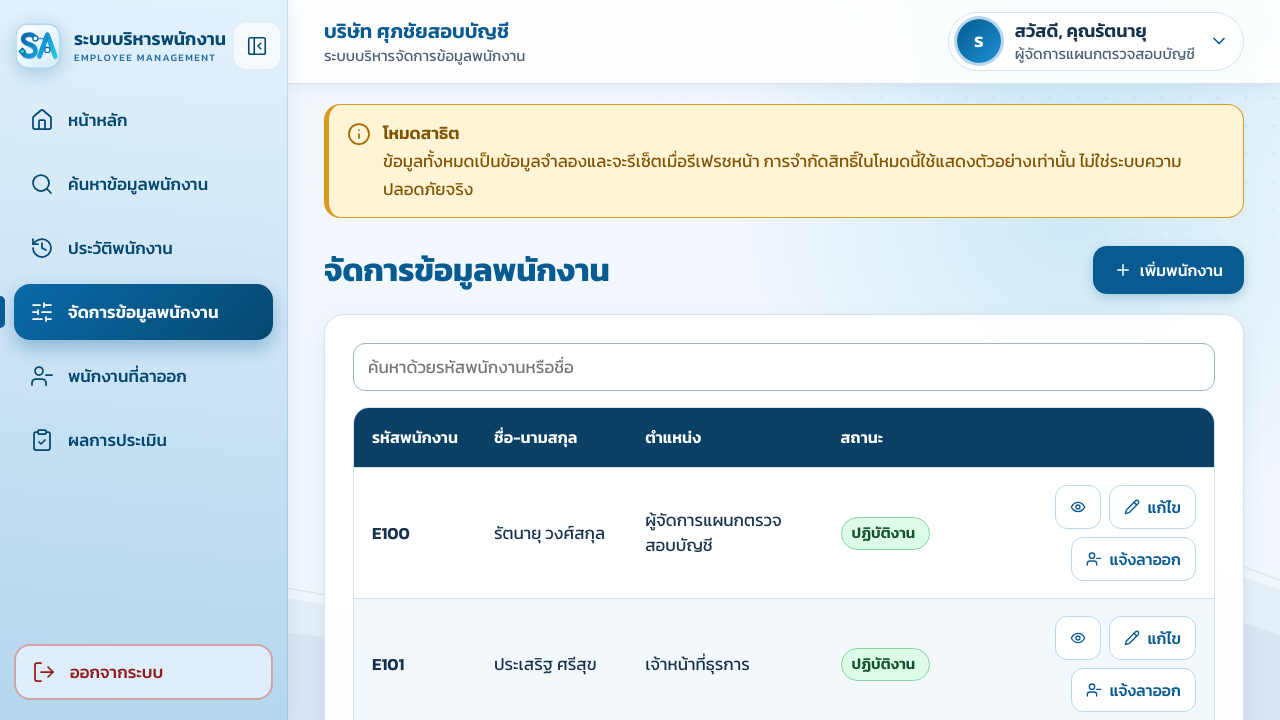
Test: employee edit modal › shows validation errors and moves focus to the first invalid field
This screenshot has width=1280, height=720.
Click the button "แก้ไข" in the row of "E100": {"x": 1152, "y": 507} x1=1109 y1=485 x2=1196 y2=529
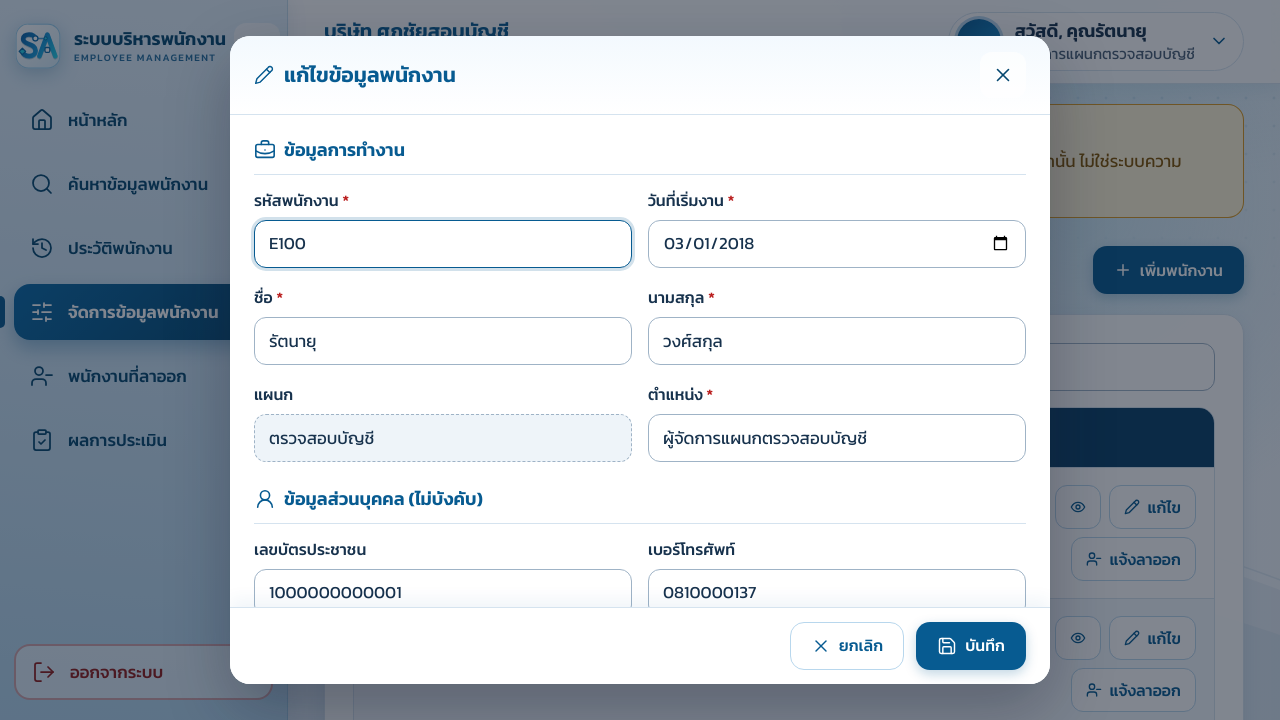
Clear the field labelled "ชื่อ *": {"x": 443, "y": 341} x1=254 y1=317 x2=632 y2=365
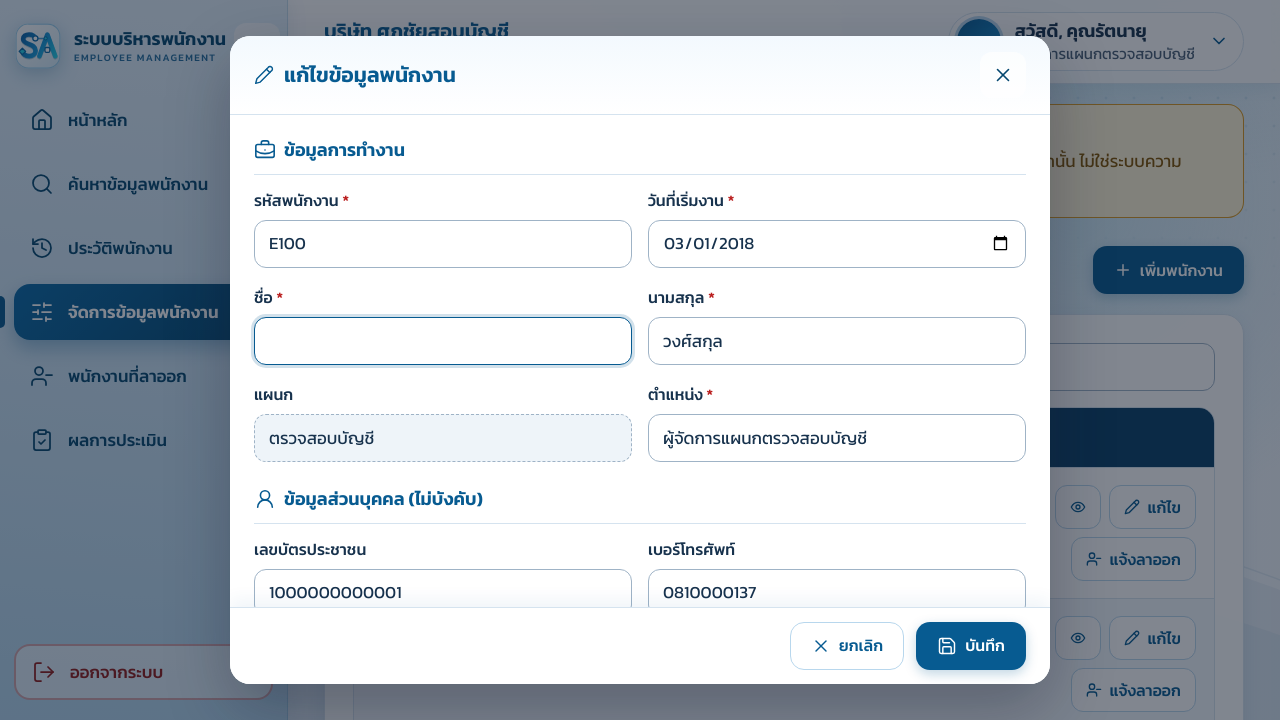
Click the button "บันทึก": {"x": 971, "y": 646} x1=916 y1=622 x2=1026 y2=670
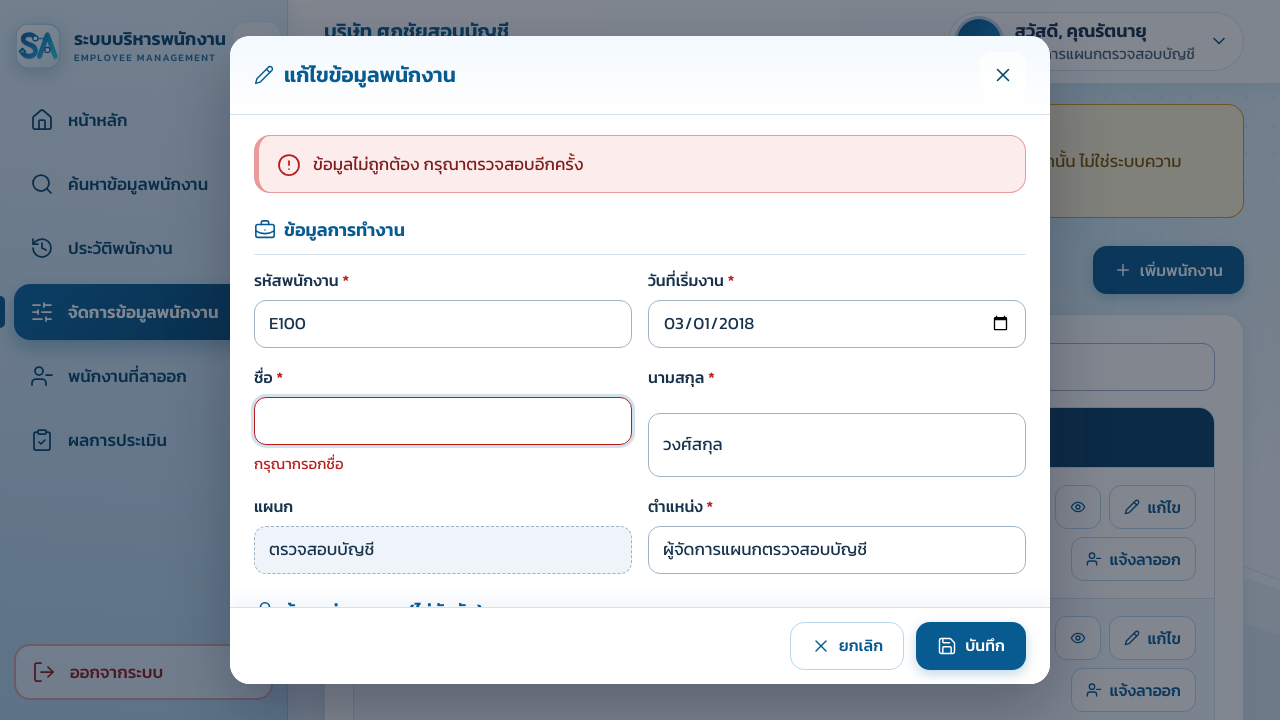
Check: the text "กรุณากรอกชื่อ" is shown, box x1=254 y1=452 x2=344 y2=475
